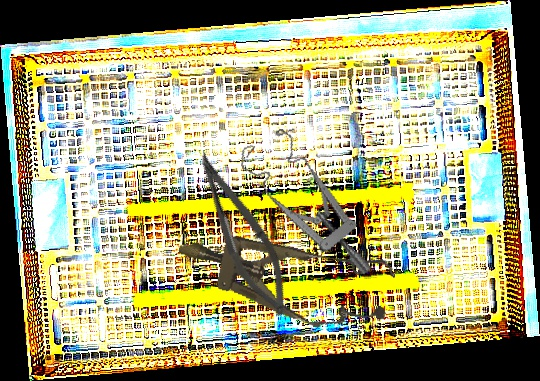Micro Scissor: (176, 145, 306, 324)
Speculum: (168, 207, 400, 343), (234, 115, 374, 300)
